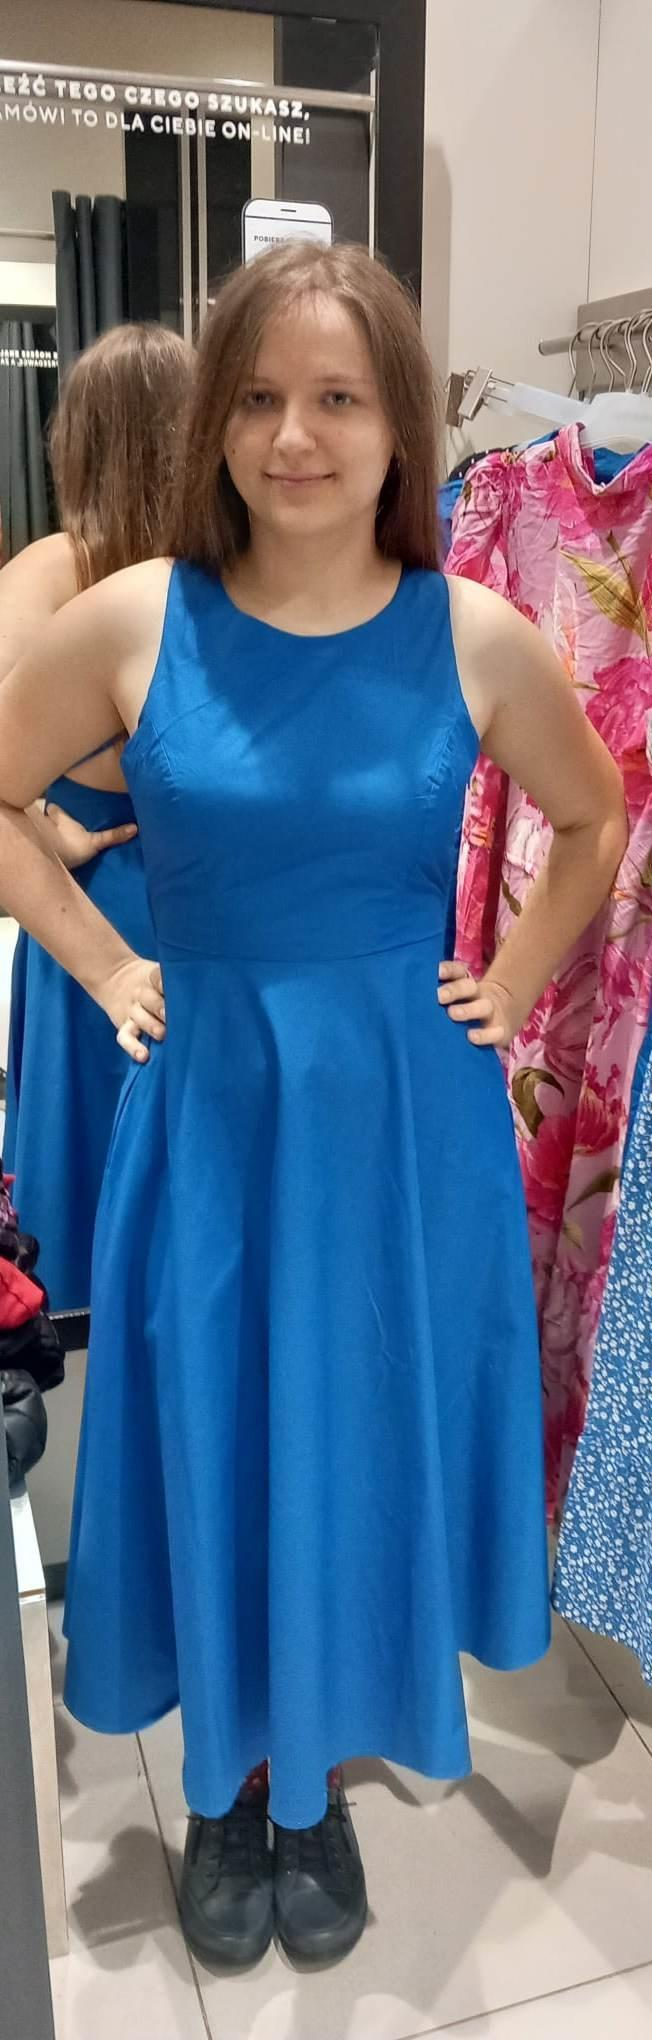dress: (59, 553, 550, 1832)
